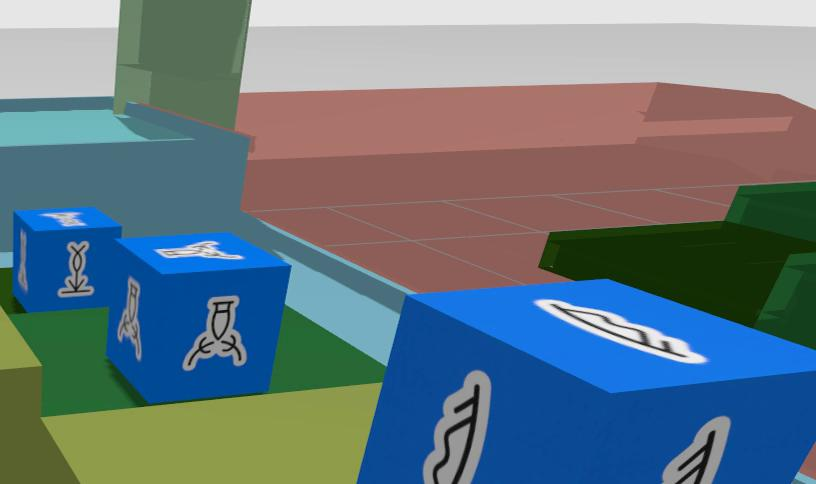KFS_FAKE: (154, 240, 244, 259)
KFS_REAL: (106, 233, 290, 402), (12, 205, 121, 311), (534, 299, 707, 363), (422, 371, 490, 483), (183, 296, 246, 370), (660, 416, 729, 483), (57, 241, 93, 297), (116, 277, 140, 361), (154, 240, 244, 259), (42, 212, 85, 226)
